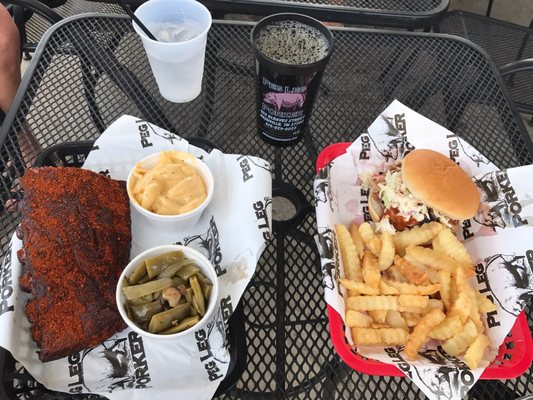pizza: (127, 149, 219, 268), (252, 13, 335, 144), (116, 243, 219, 336), (133, 0, 212, 103)
salad: (113, 0, 158, 42)
